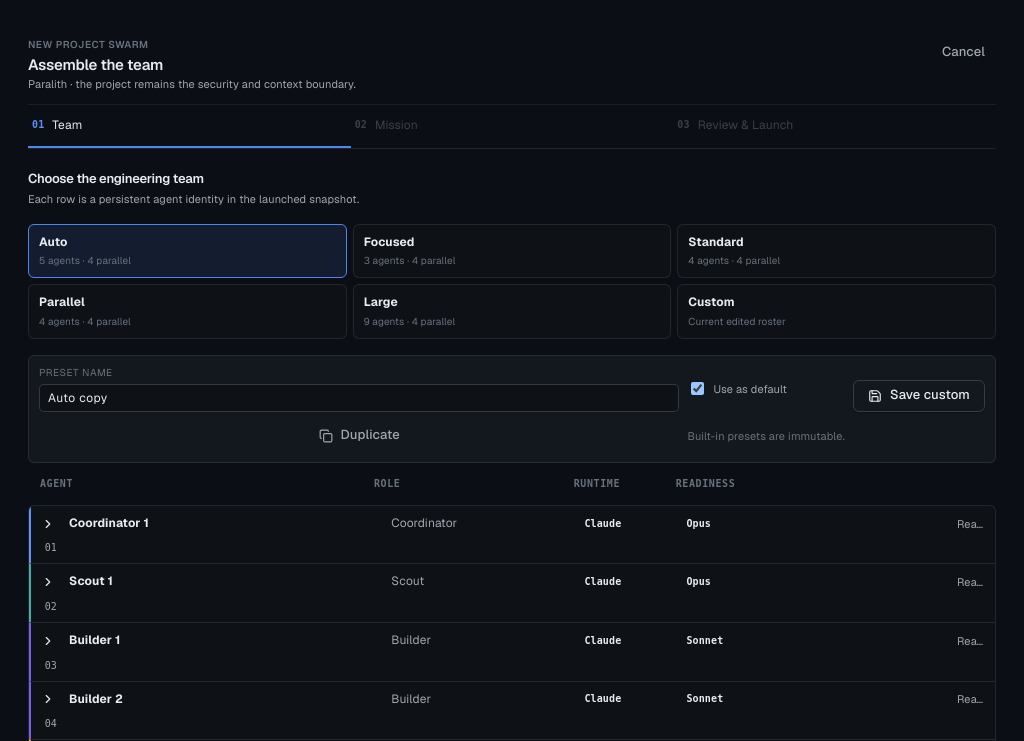
Scenario: Swarm model identity contract › resolves a canonical model for every member of the Focused preset
Expected: the text "Auto" is shown, top-left (39, 234), bottom-right (68, 250)
Click the text "Focused" at (389, 242), box top-left (364, 234), bottom-right (415, 250)
(page scrolled)
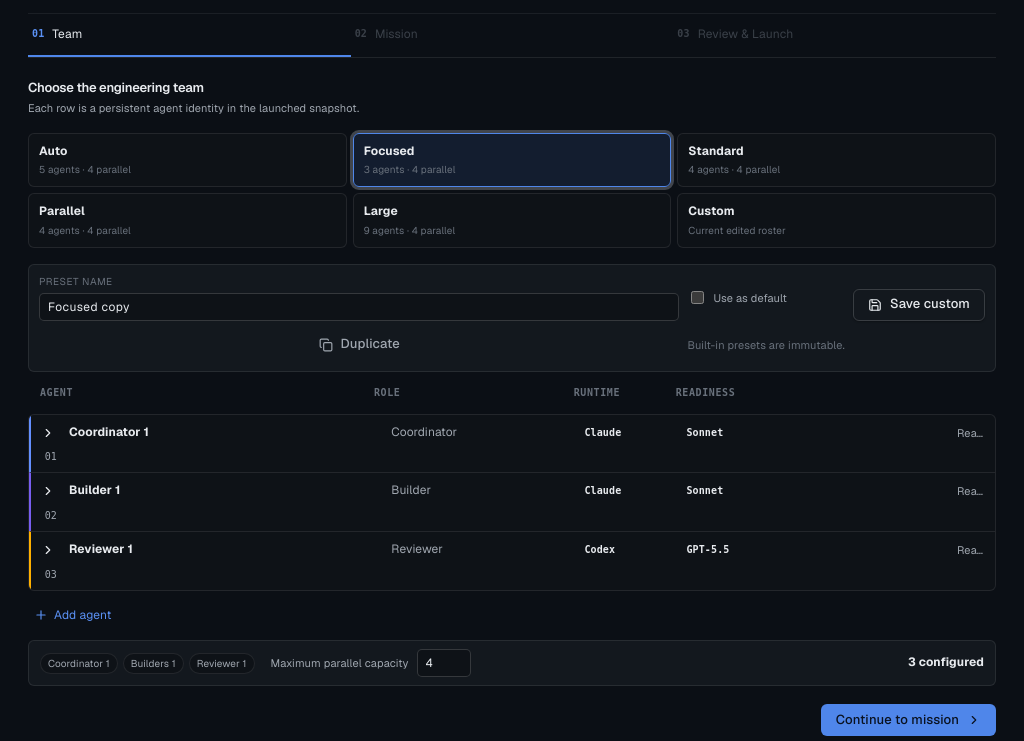
Click the button "Continue to mission" at (908, 720), box top-left (821, 704), bottom-right (996, 736)
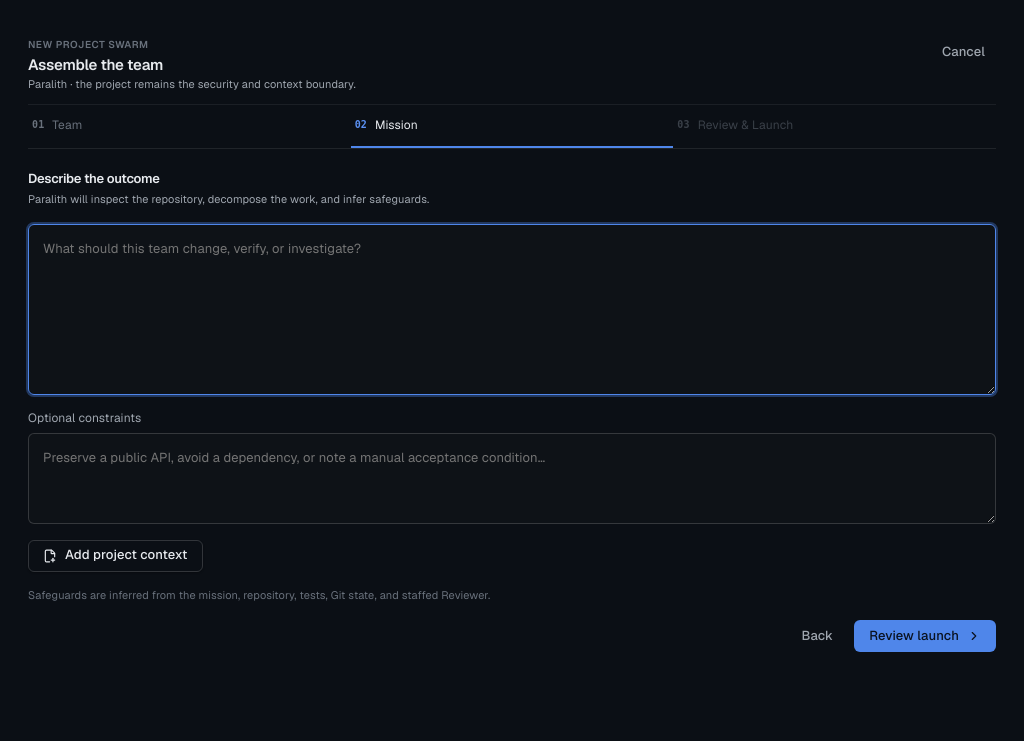
Type "Repair the notification pipeline" into the text box with placeholder "What should this team change, verify, or investigate?" at (512, 309), box top-left (28, 224), bottom-right (996, 395)
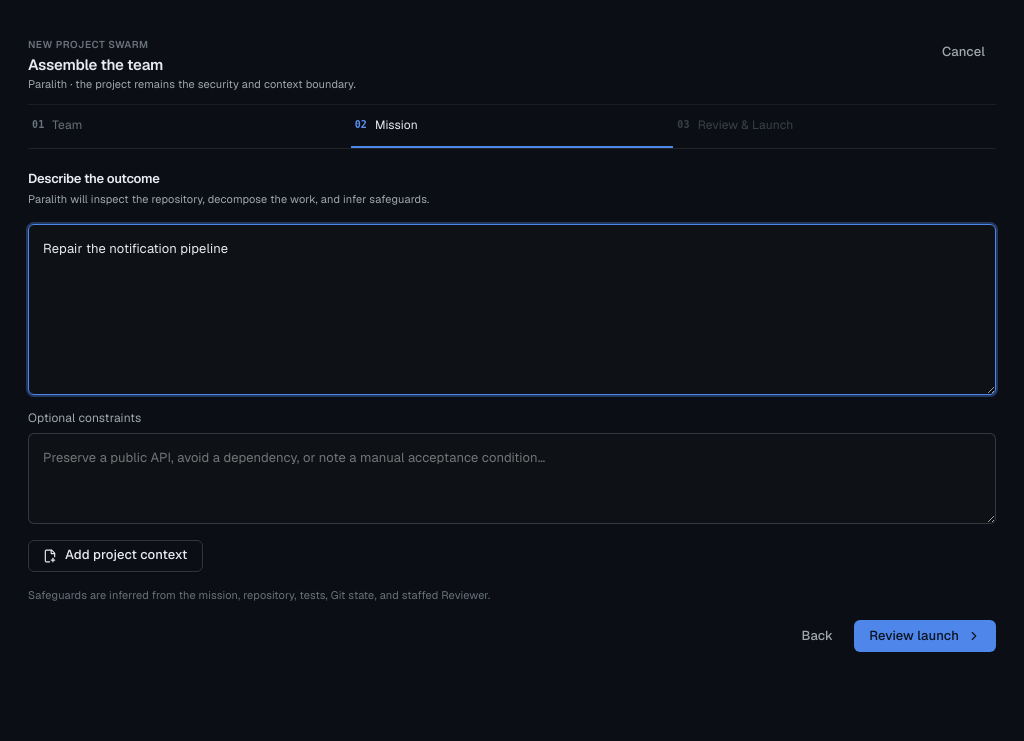
Click the button "Review launch" at (925, 636), box top-left (854, 620), bottom-right (996, 652)
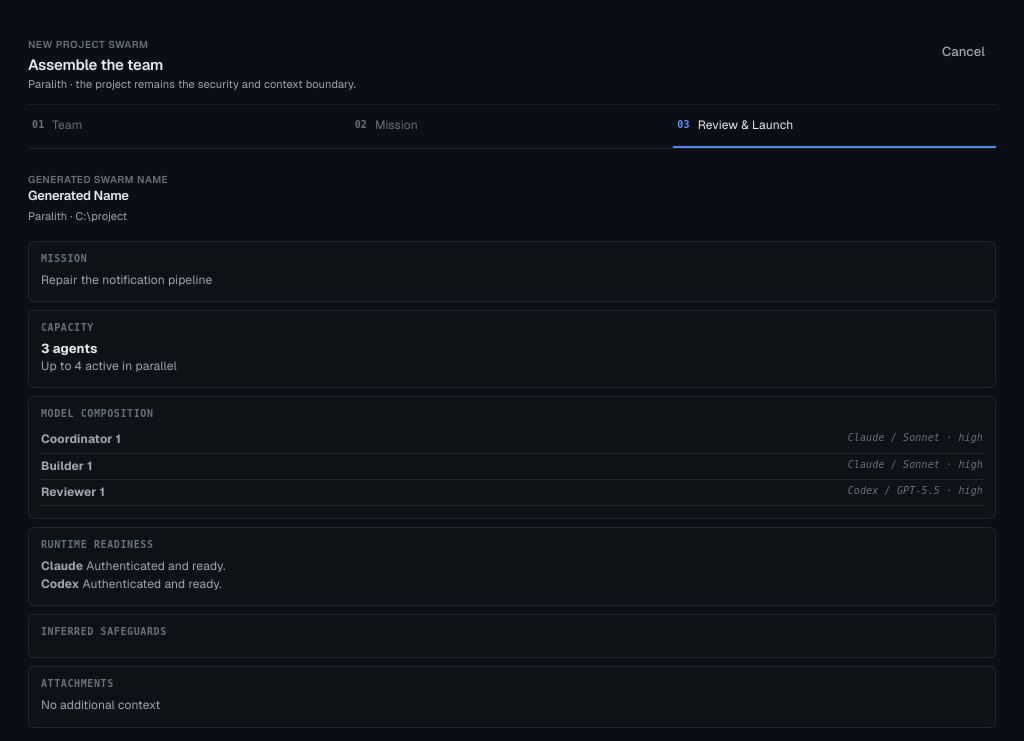
Expected: the heading "Generated Name" is shown, top-left (28, 187), bottom-right (129, 204)
